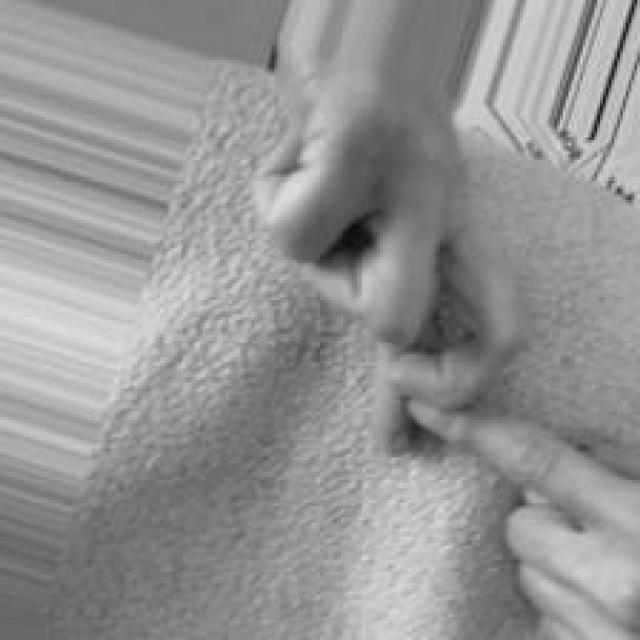R: (245, 84, 640, 640)
